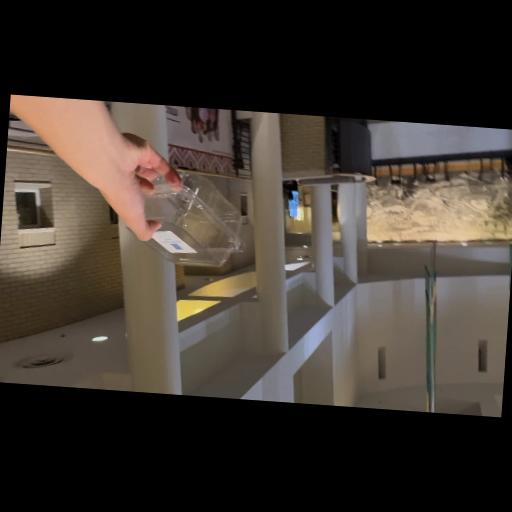small_plastic_container: (122, 164, 251, 270)
